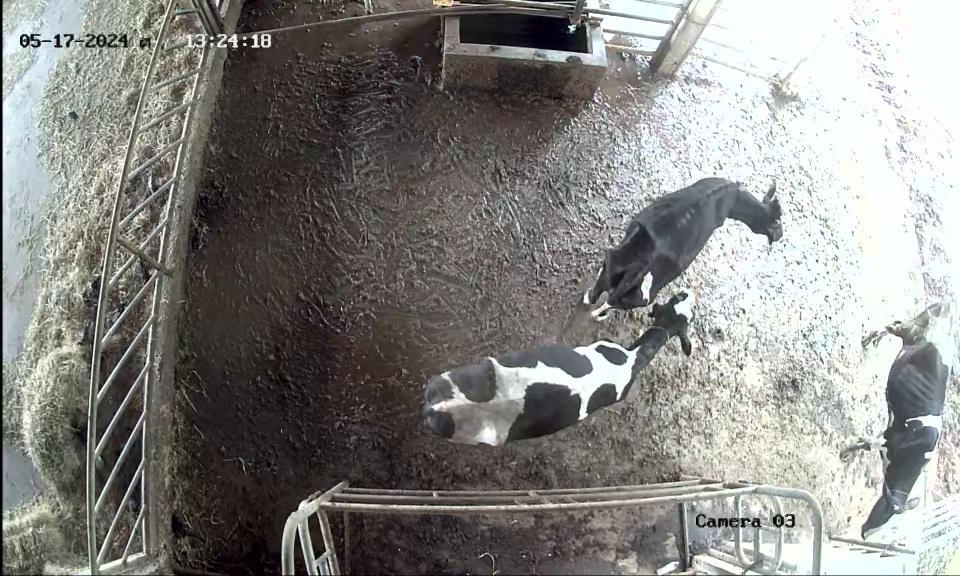stand: (407, 287, 728, 458), (818, 278, 953, 545), (577, 163, 799, 321)
